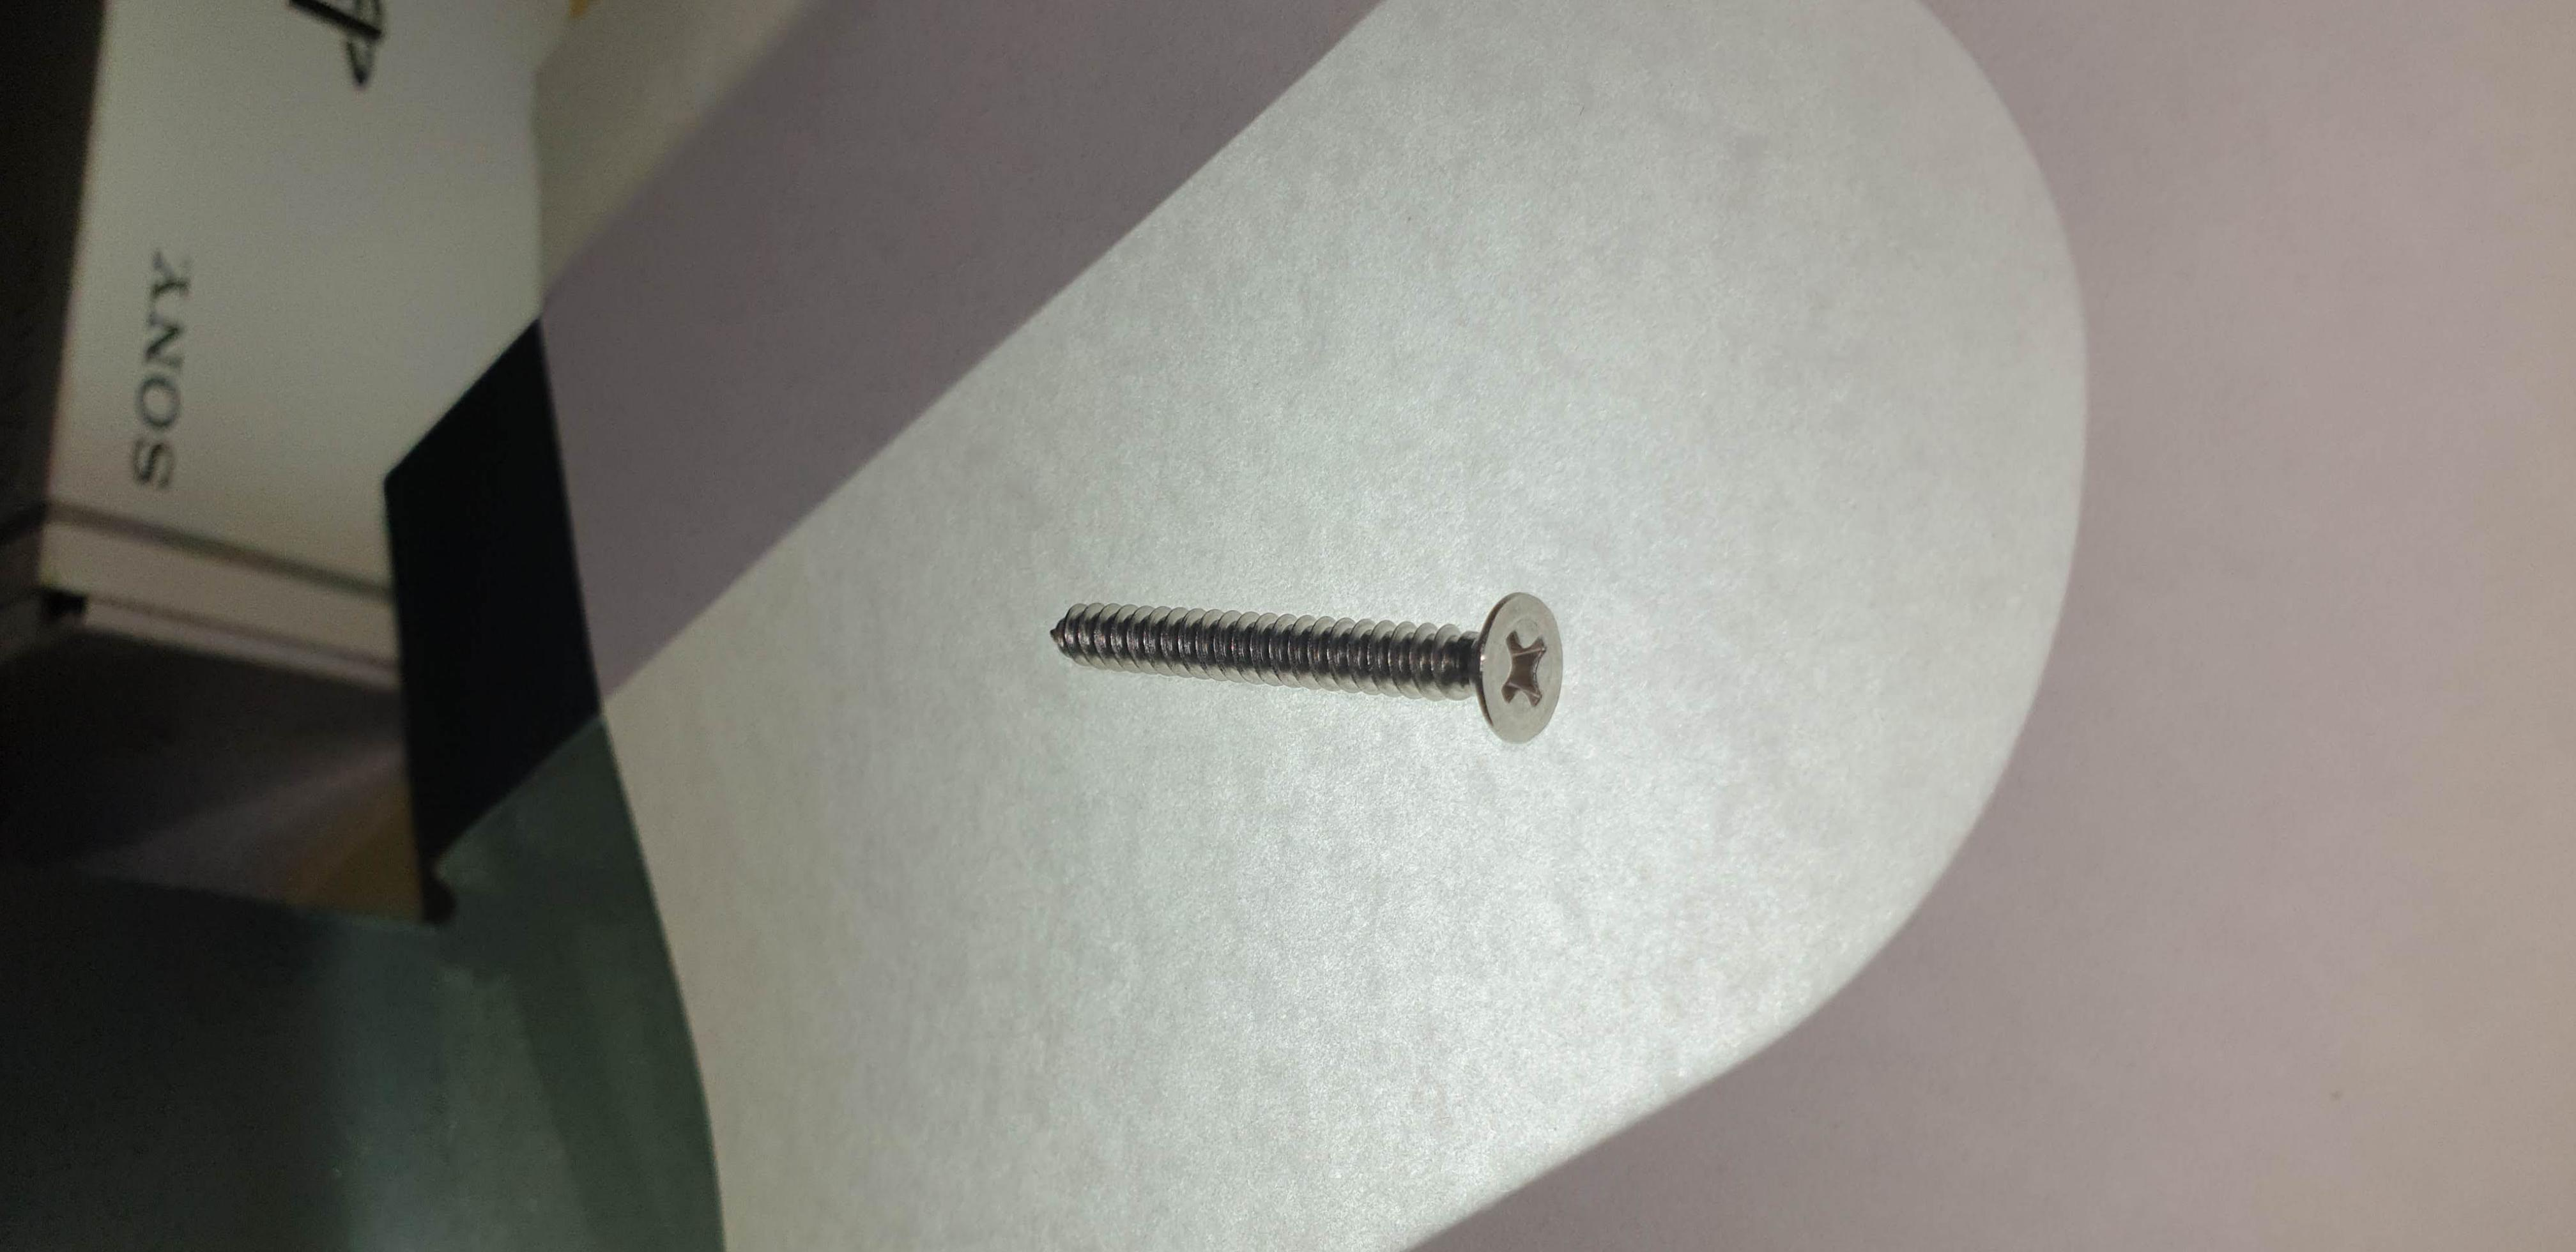fastener: (1001, 521, 1679, 776)
